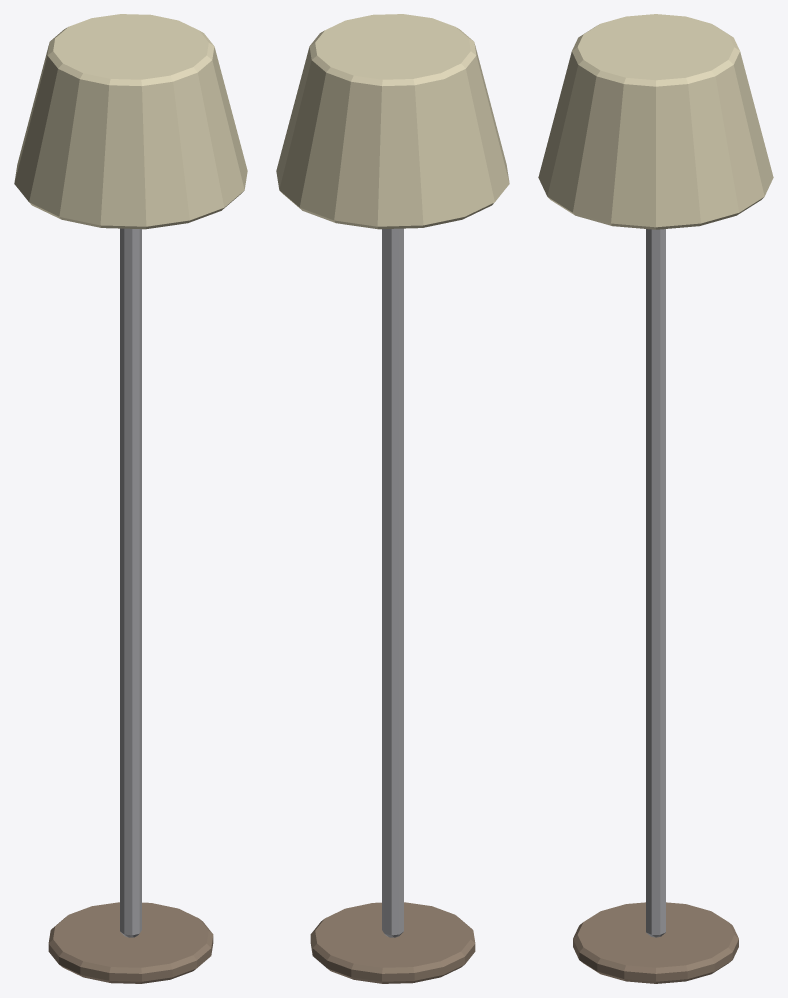
Rendered from bed_moveis_luminaria_pe.glb.
The picture shows the model from 3 angles, left to right: view 1: azimuth 30°, elevation 25°; view 2: azimuth 150°, elevation 25°; view 3: azimuth 270°, elevation 25°; orthographic projection.
Visible parts, largest first — view 1: BED_Moveis_LuminariaPe_v01; view 2: BED_Moveis_LuminariaPe_v01; view 3: BED_Moveis_LuminariaPe_v01.
Part boxes in pixels (x1,y1,x2,y2): BED_Moveis_LuminariaPe_v01: (14, 14, 247, 983); BED_Moveis_LuminariaPe_v01: (276, 14, 509, 983); BED_Moveis_LuminariaPe_v01: (538, 14, 773, 983).
Bounding box in the file's own units: 0.3964 × 1.68 × 0.3964.
